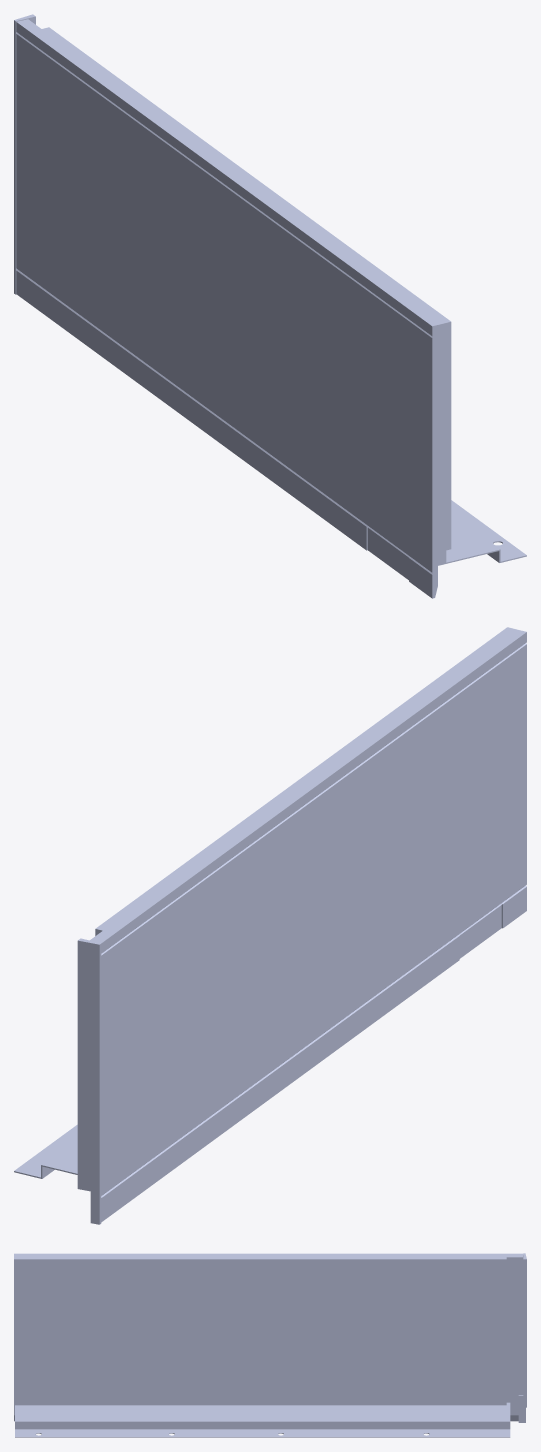
File: lg-kava-C500-p.glb
The picture shows the model from 3 angles, top to bottom: view 1: azimuth 30°, elevation 25°; view 2: azimuth 150°, elevation 25°; view 3: azimuth 270°, elevation 25°; orthographic projection. The views are drawn at different scales.
Parts seen in each view (by area): view 1: 42381671; view 2: 42381671; view 3: 42381671.
Part boxes in pixels (x1,y1,x2,y2): 42381671: [14, 14, 526, 598]; 42381671: [14, 627, 526, 1224]; 42381671: [14, 1253, 526, 1437].
Bounding box in the file's own units: 0.0653 × 0.1777 × 0.4935.
